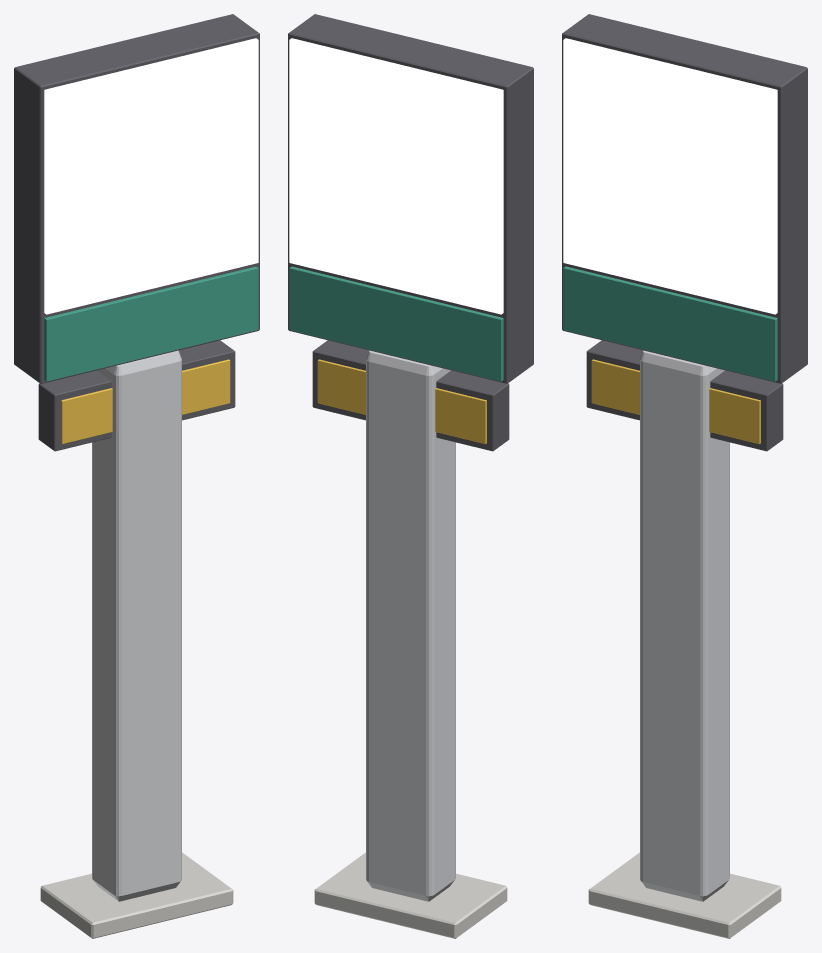
Rendered from petrol-station-and-forecourt-shop-station-pylon-sign-bc7a7388__33946.glb.
3 views of the same model, side by side, from view 1: azimuth 30°, elevation 25°; view 2: azimuth 150°, elevation 25°; view 3: azimuth 330°, elevation 25° (orthographic).
Parts seen in each view (by area): view 1: station-pylon-sign; view 2: station-pylon-sign; view 3: station-pylon-sign.
Boxes of the visible parts, bbox=[...] form: station-pylon-sign: bbox=[14, 14, 259, 938]; station-pylon-sign: bbox=[288, 14, 533, 938]; station-pylon-sign: bbox=[562, 14, 807, 938].
Size of the model in its own units: 1.7 by 6.3 by 0.6999.
